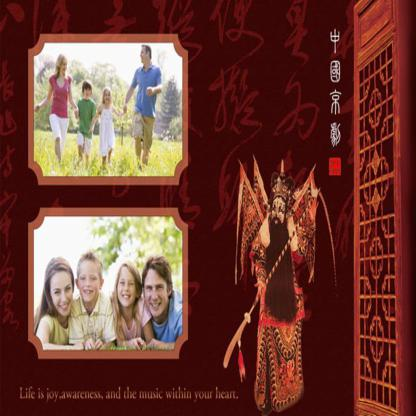face: (145, 273, 168, 317), (51, 275, 75, 317), (79, 264, 100, 303), (118, 269, 137, 308), (141, 47, 149, 63), (104, 91, 112, 104), (62, 60, 68, 73), (85, 87, 92, 98)
